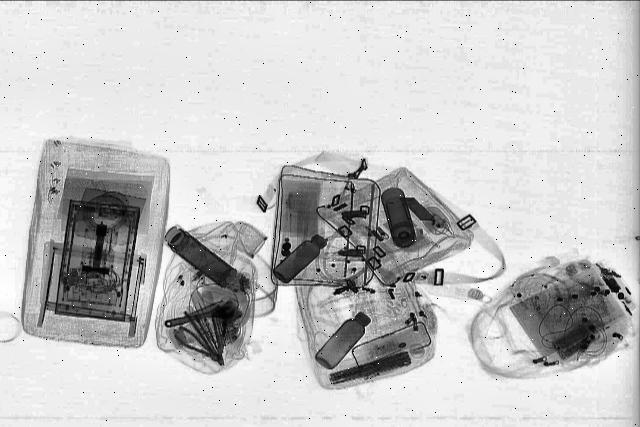Pliers: (168, 324, 228, 362)
Wrench: (162, 304, 238, 330)
